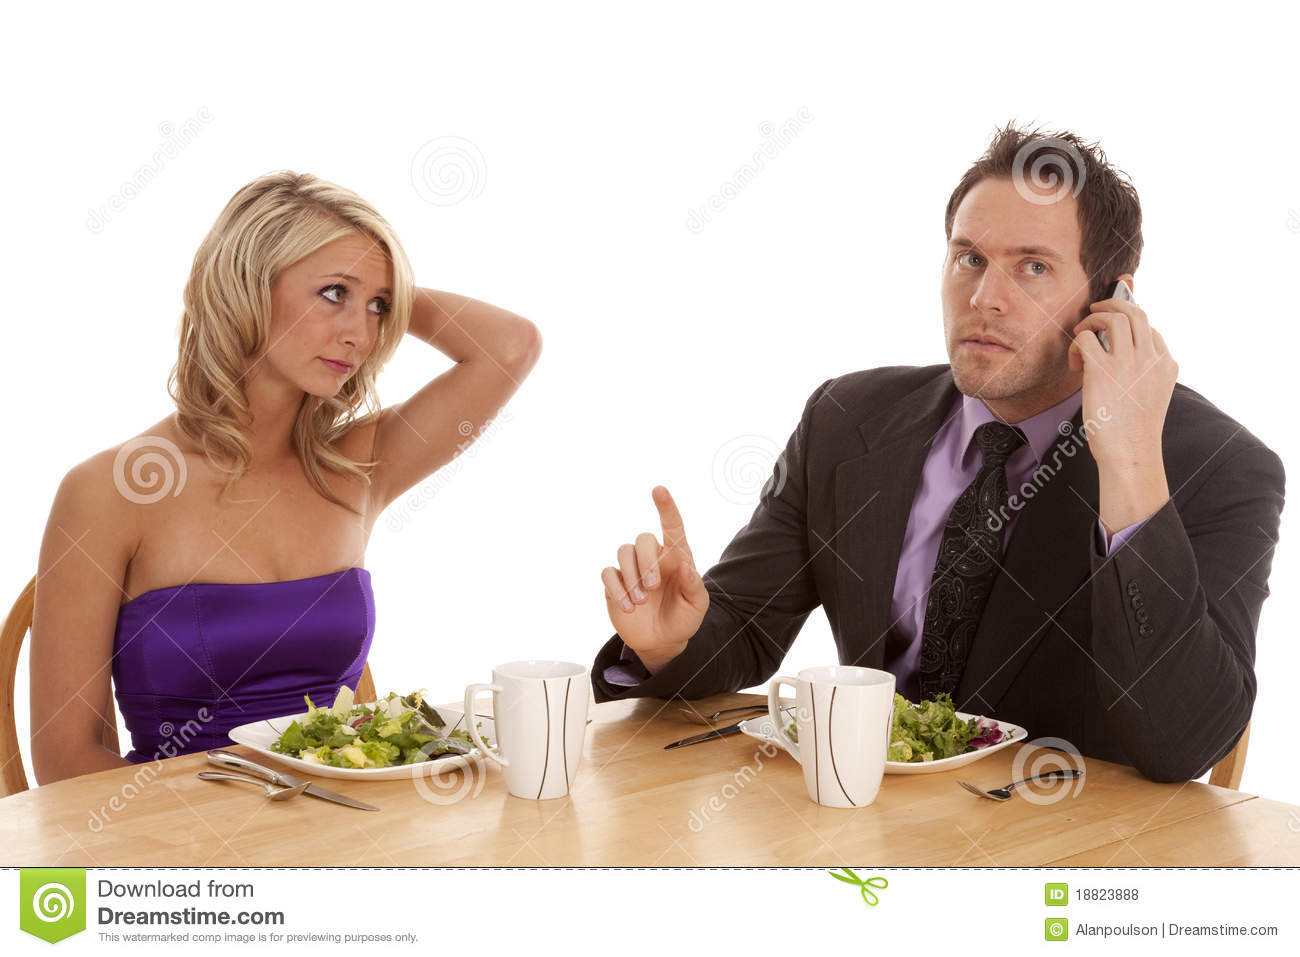talk: (941, 238, 1181, 462)
